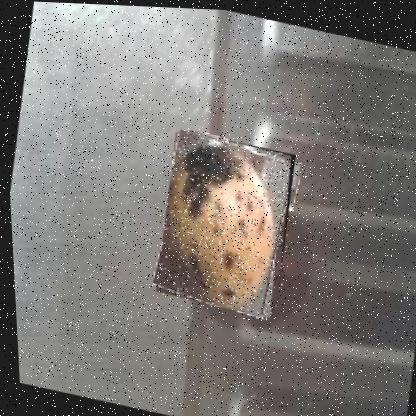mango_rotten: (146, 125, 305, 318)
